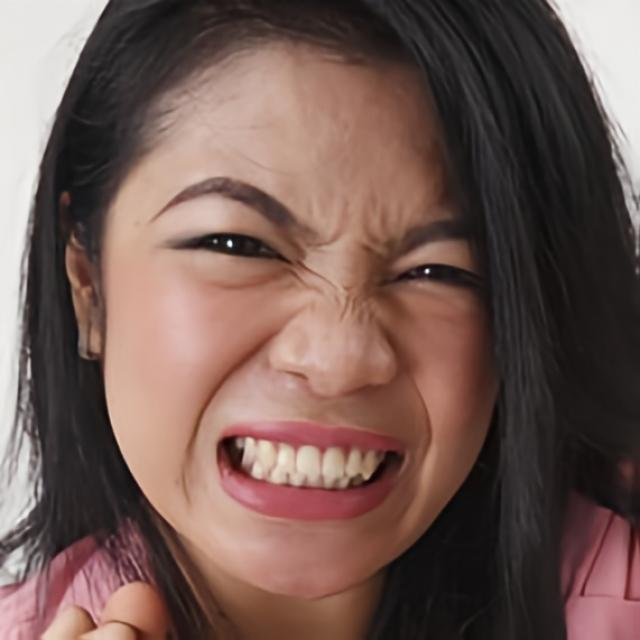disgust: (99, 34, 508, 604)
